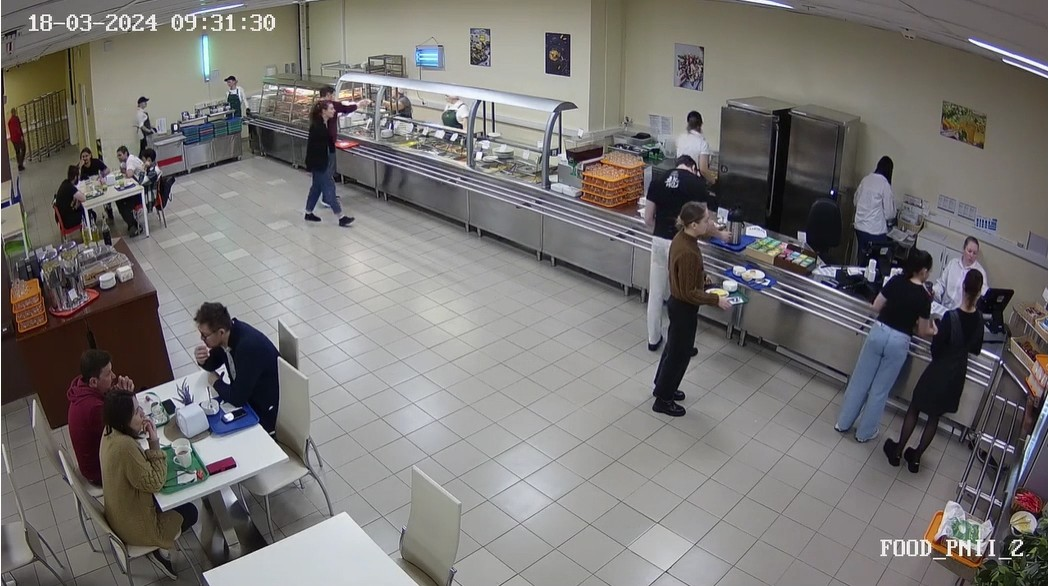Na_Kasse: (815, 256, 1016, 480), (781, 232, 949, 455)
Ne_v_Ocheredi: (2, 104, 33, 174)
Personal: (843, 145, 901, 254), (664, 96, 726, 168), (432, 81, 477, 139), (947, 227, 996, 277), (221, 74, 250, 128), (125, 93, 157, 136), (384, 82, 416, 115)
Vybiraet: (650, 210, 736, 420), (308, 98, 351, 228), (643, 144, 717, 218), (317, 77, 371, 117)
Za_Stolom: (193, 293, 302, 444), (97, 384, 173, 551), (50, 342, 135, 481), (49, 164, 92, 242), (133, 144, 173, 212), (70, 141, 109, 191), (114, 141, 144, 185)
